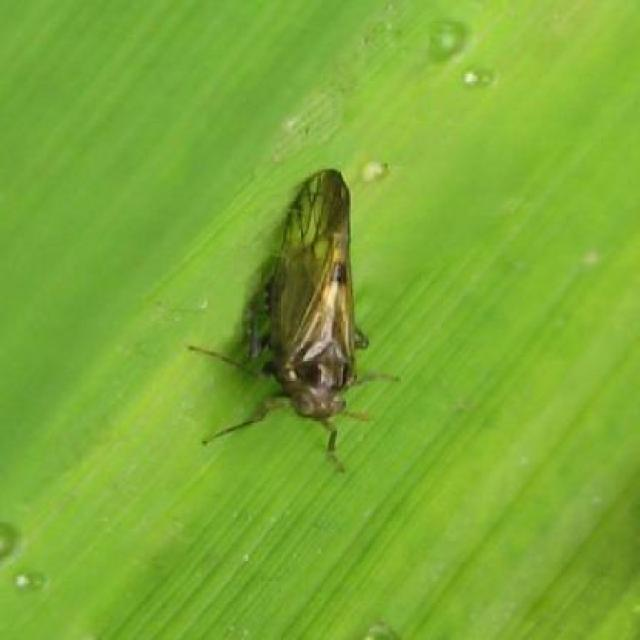brown-planthopper: (255, 166, 374, 432)
